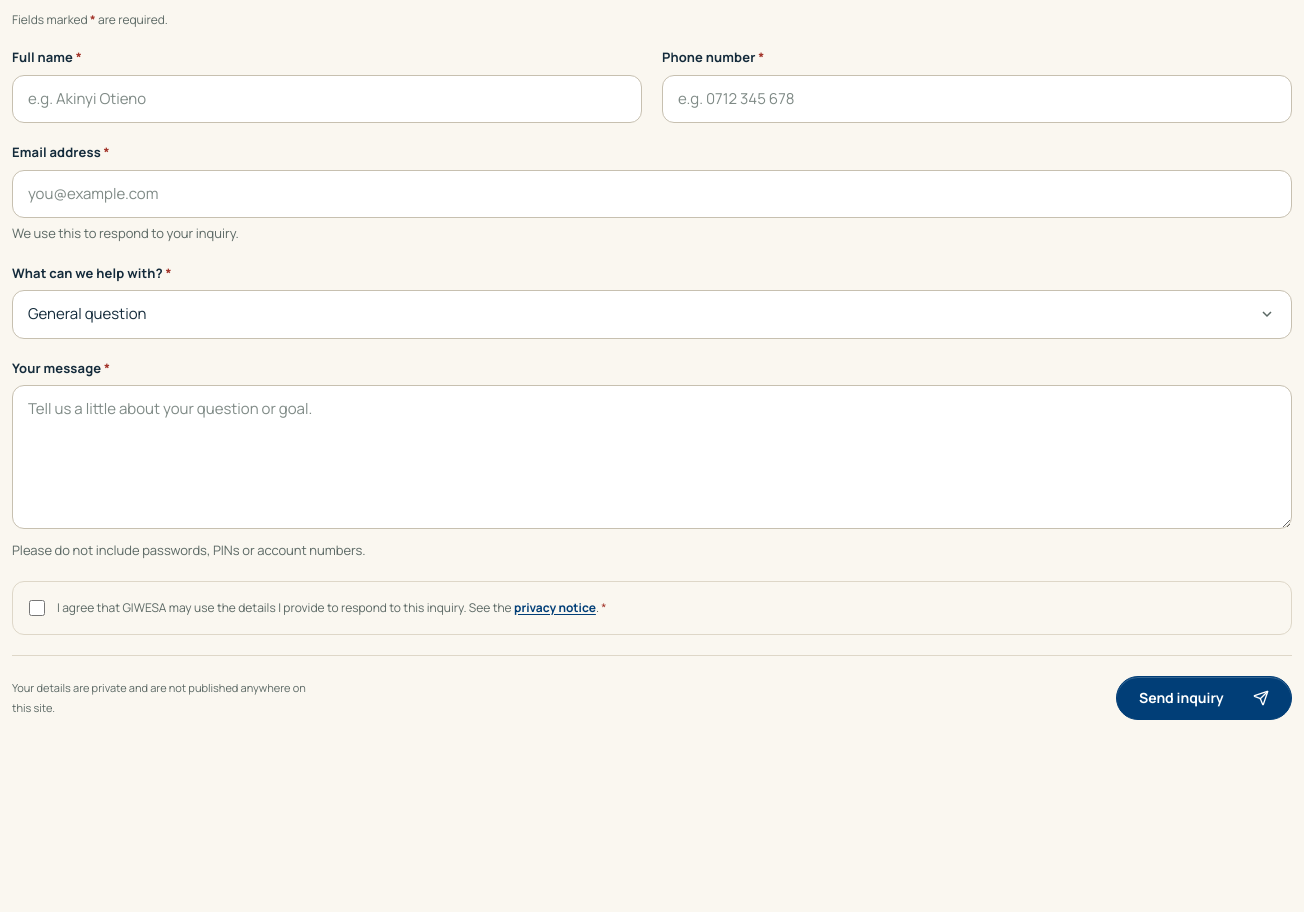
Test case: public inquiry form › shows accessible validation errors before sending
Click the button "Send inquiry" at (1204, 698), box x1=1116 y1=676 x2=1292 y2=720
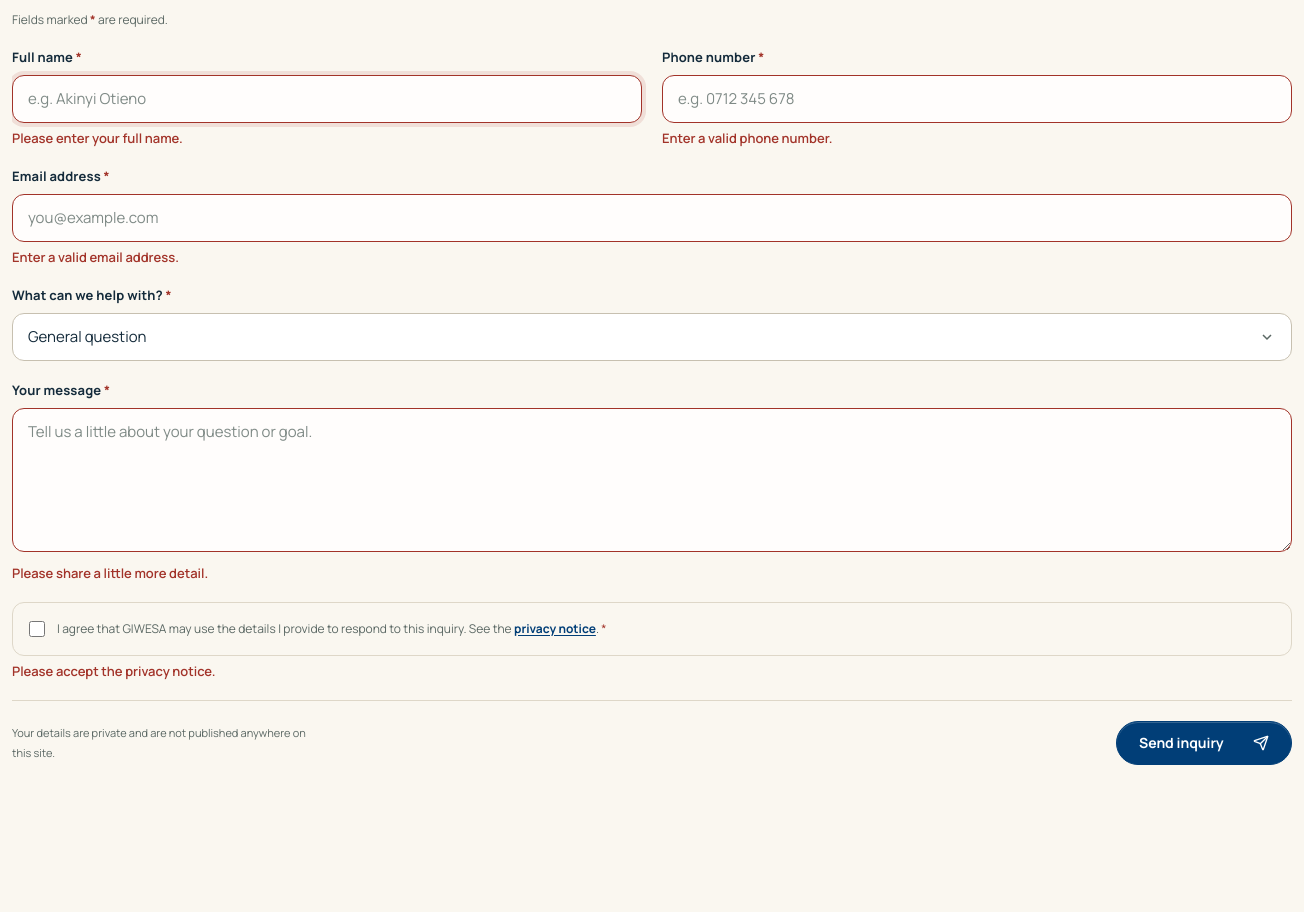
Check: the text "Please enter your full name." is shown, box x1=12 y1=129 x2=183 y2=147
Check: the text "Enter a valid email address." is shown, box x1=12 y1=248 x2=179 y2=266
Check: the text "Enter a valid phone number." is shown, box x1=662 y1=129 x2=832 y2=147
